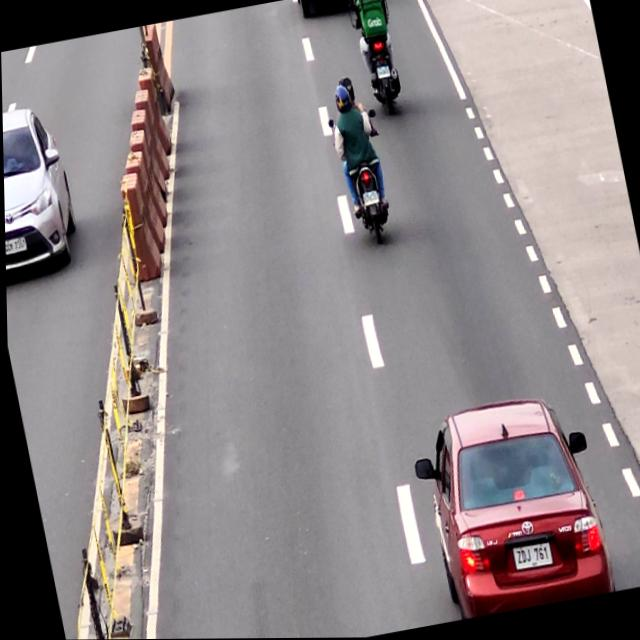Car: (403, 388, 616, 623)
License-Plate: (510, 540, 551, 570), (361, 188, 379, 206), (375, 64, 391, 80)
Motorcycle: (328, 106, 398, 249), (347, 0, 408, 120)
